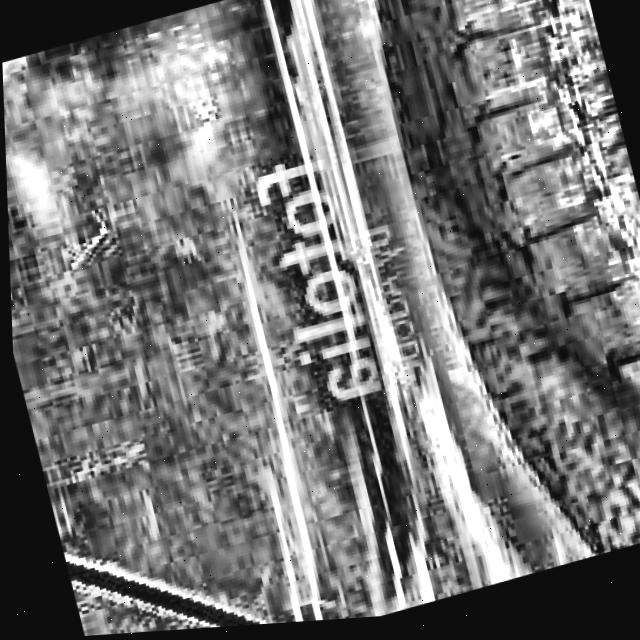bumper_scratch: (140, 0, 600, 631)
